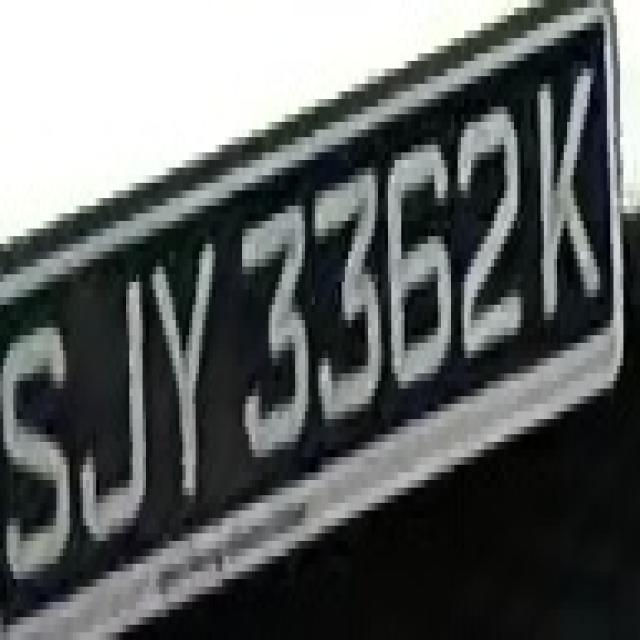2: (451, 107, 531, 381)
3: (212, 213, 315, 488), (298, 168, 382, 457)
6: (388, 122, 454, 411)
J: (66, 229, 150, 556)
K: (524, 38, 607, 320)
S: (0, 274, 80, 625)
Y: (140, 221, 236, 526)
